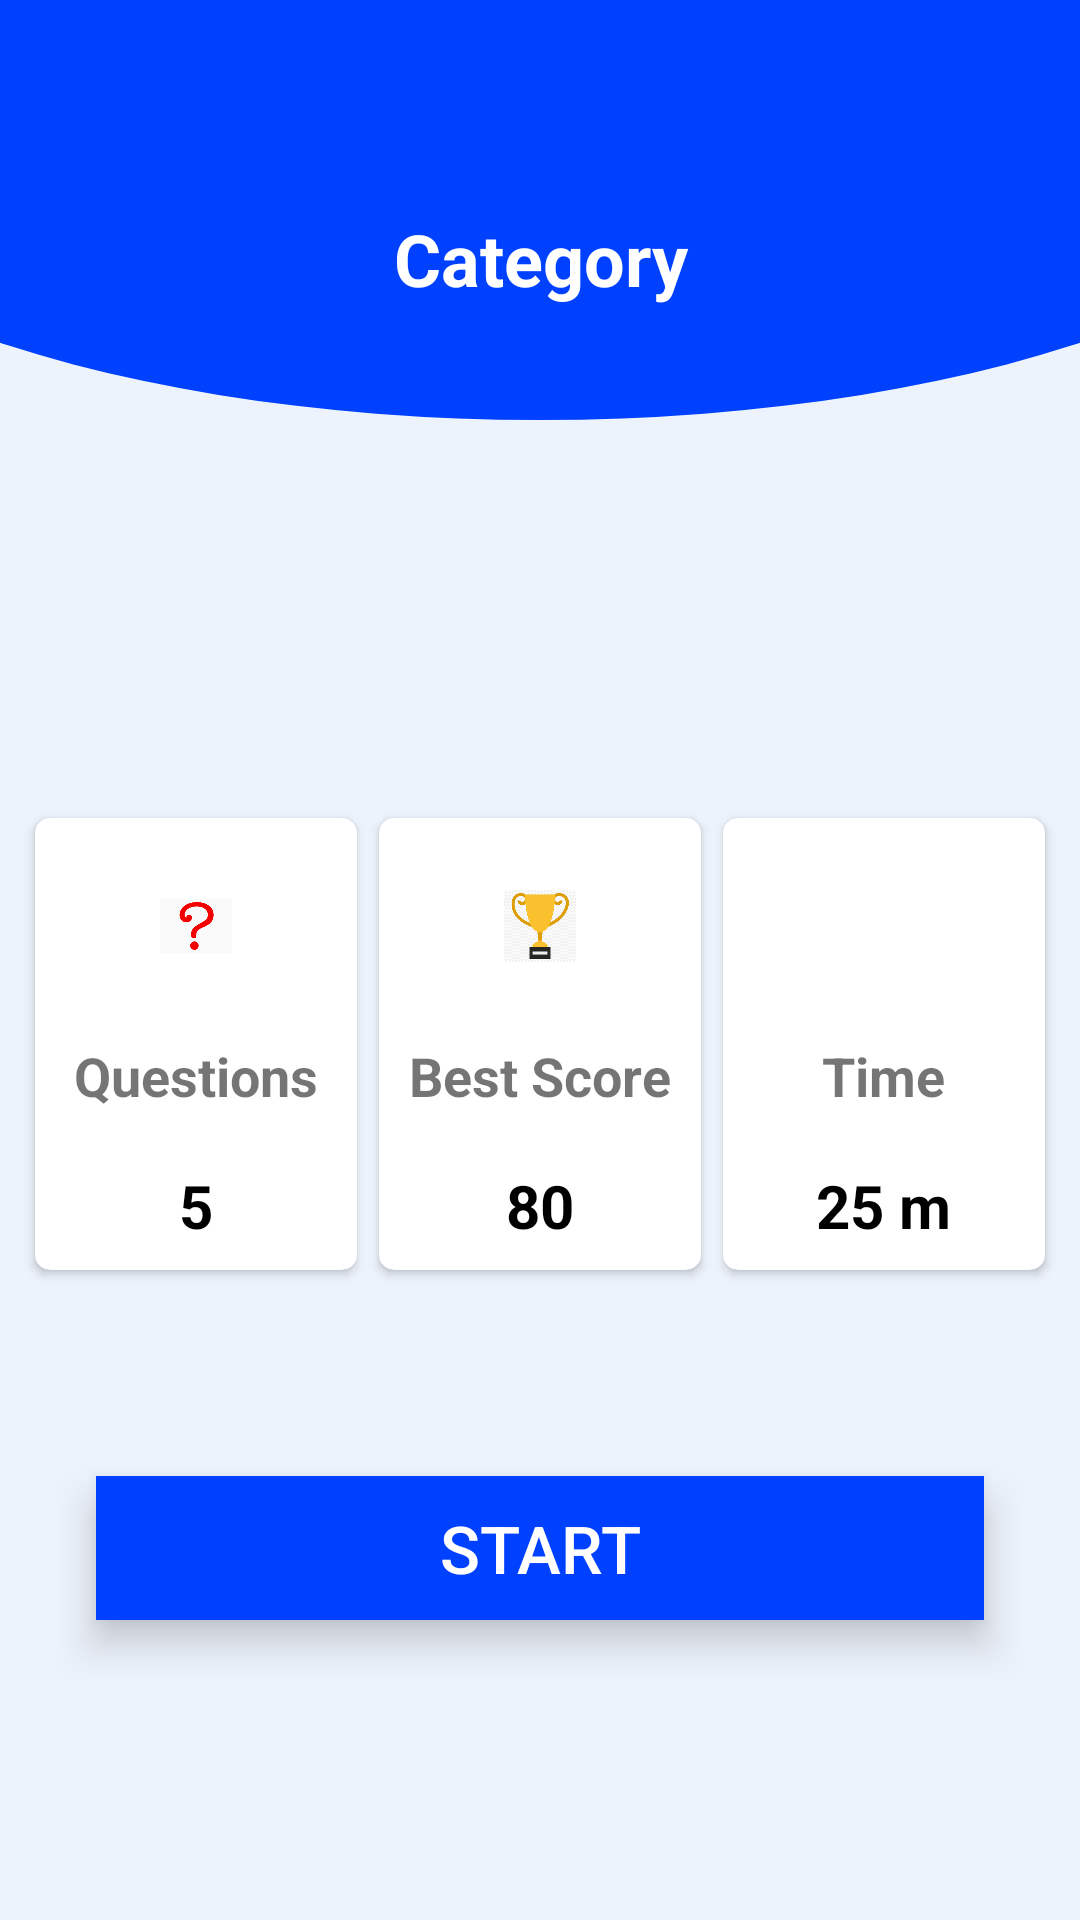

Screen size 1080×1920. Icon name, then its box in pixels as [x1=x1, y1=y1, x2=x2, y2=y2]:
award: [x1=511, y1=893, x2=569, y2=959]
